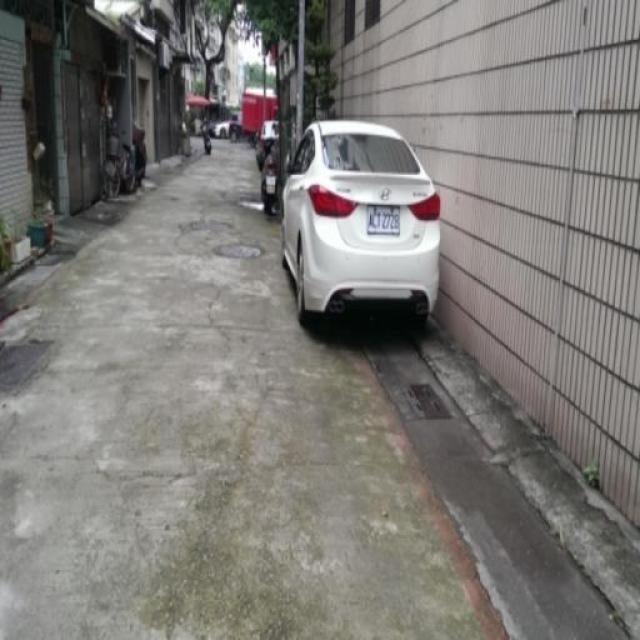illegalparking: (267, 114, 467, 371)
